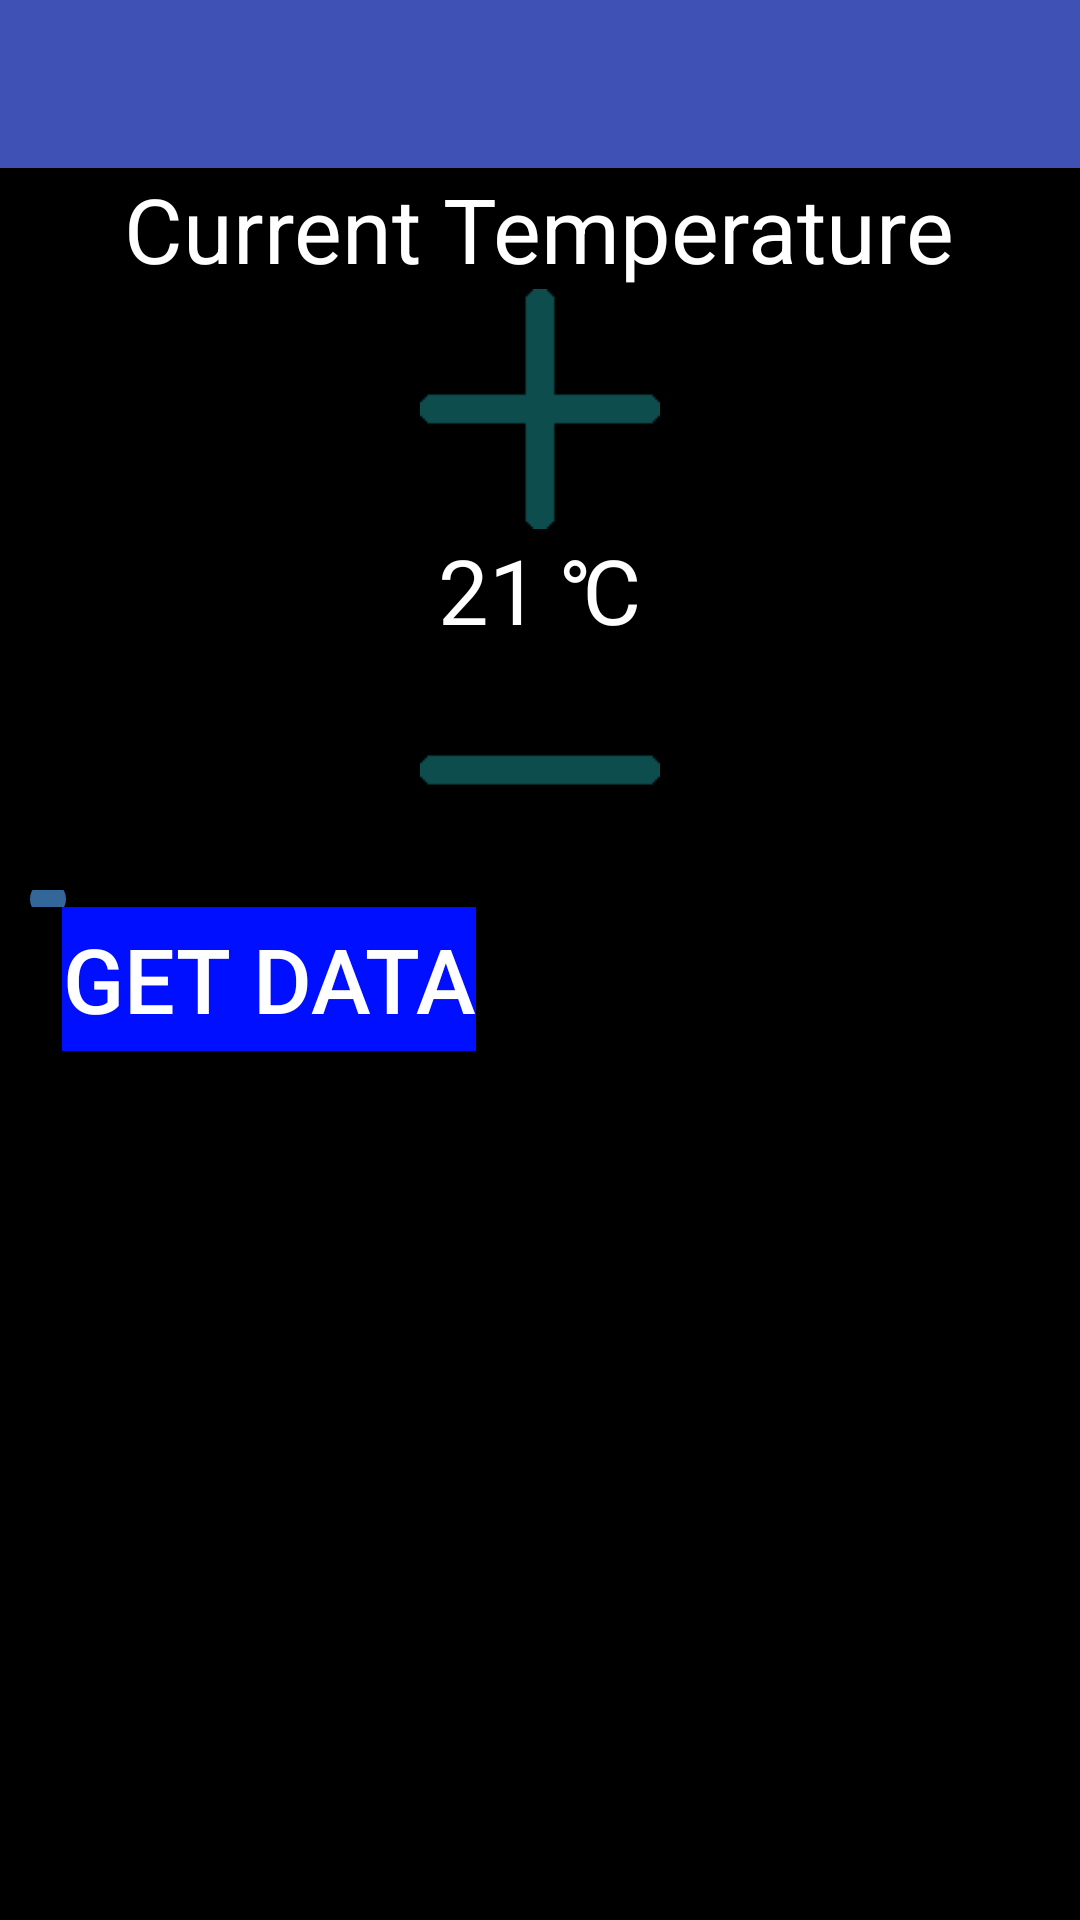

Point at icon controls on the screen. Image size 1080 × 1920, points as (x=x, y=y).
plus: (x=540, y=409)
